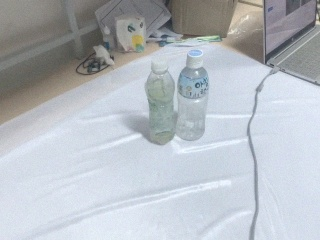bottle: (173, 48, 211, 142), (145, 54, 178, 146)
box: (166, 1, 236, 40)
